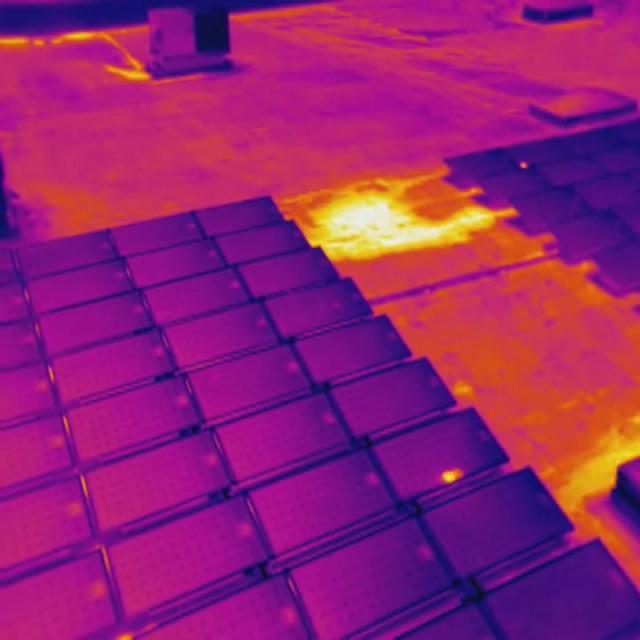Orange-Spots: (441, 466, 466, 483), (519, 160, 528, 168)
